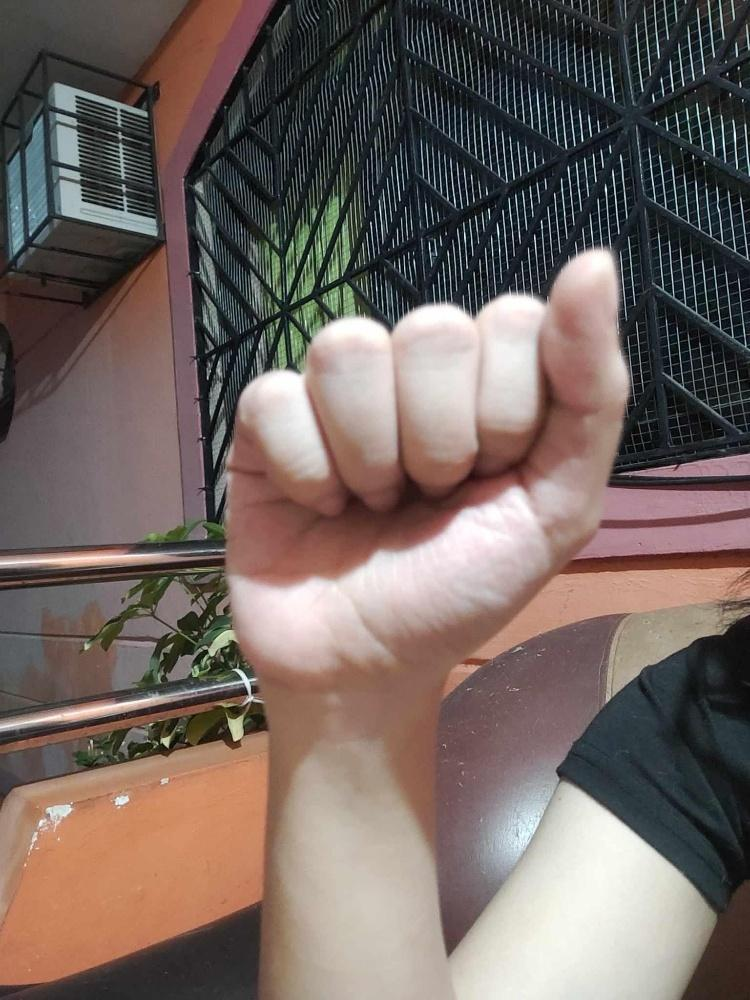a: (223, 247, 630, 691)
